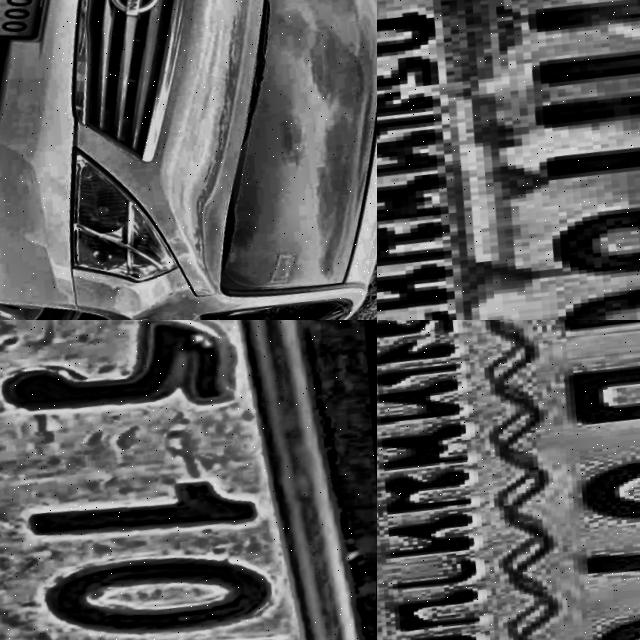license-plate: (0, 320, 377, 640), (377, 0, 640, 320), (377, 320, 640, 640), (0, 0, 77, 49)
